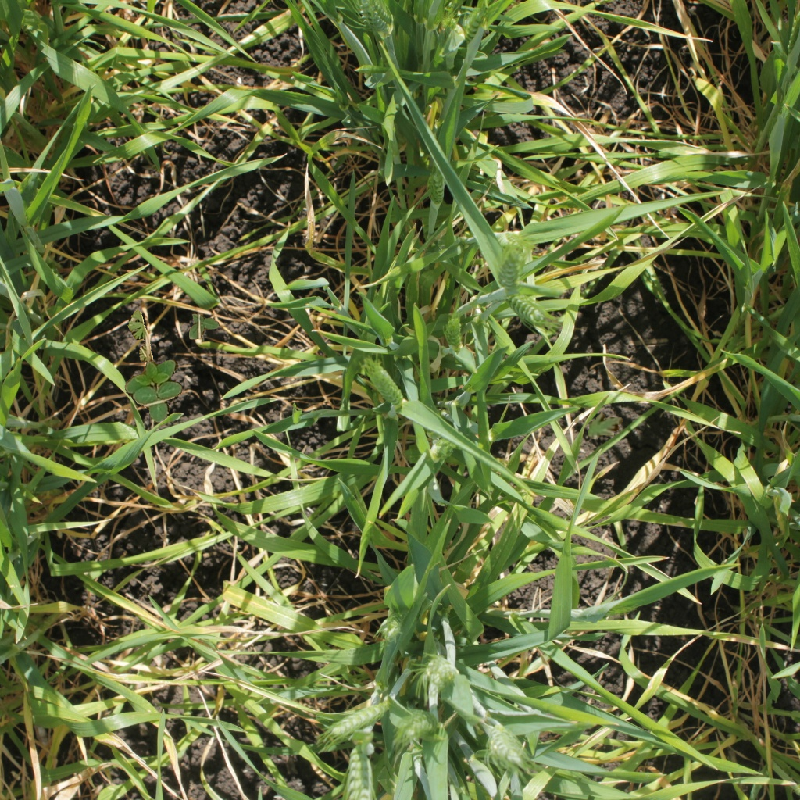spikelet: (326, 694, 390, 739), (495, 234, 533, 291), (508, 291, 559, 333), (483, 721, 528, 766), (344, 738, 377, 799), (421, 652, 456, 697), (355, 1, 395, 39), (392, 706, 435, 741), (461, 1, 494, 45), (377, 610, 405, 642)
weed: (120, 347, 201, 428), (118, 308, 165, 366), (588, 412, 623, 439), (189, 312, 220, 340)
